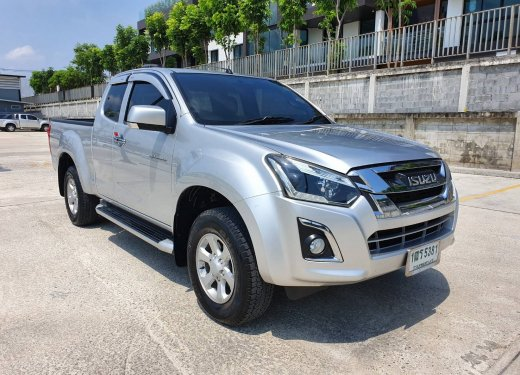pickup: (45, 64, 460, 327)
